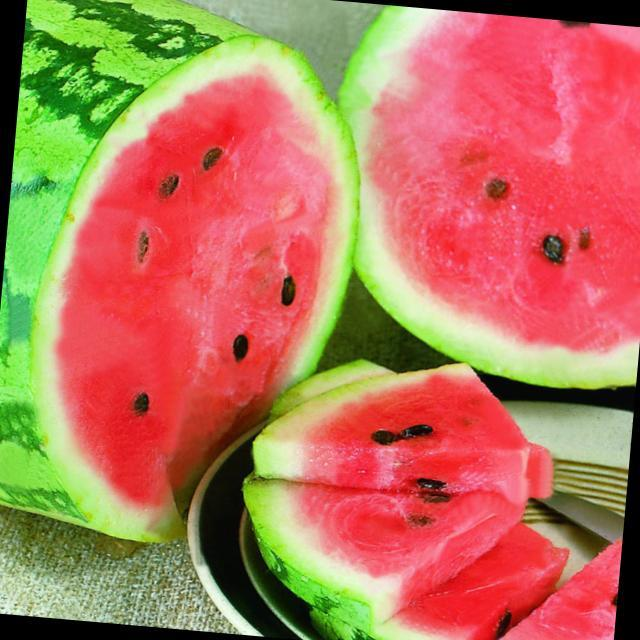WATERMELON: (0, 0, 373, 553), (323, 3, 640, 393), (254, 358, 566, 522), (235, 476, 512, 632), (348, 478, 581, 640), (490, 496, 624, 640)
